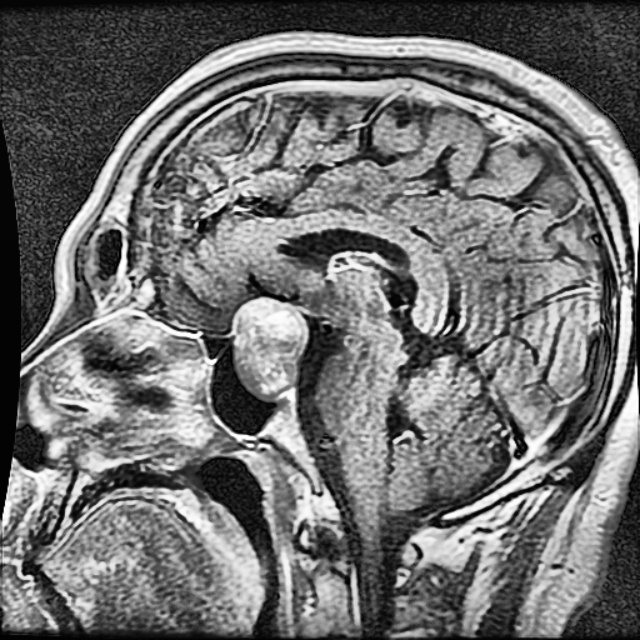Pituitary: (233, 297, 305, 395)
